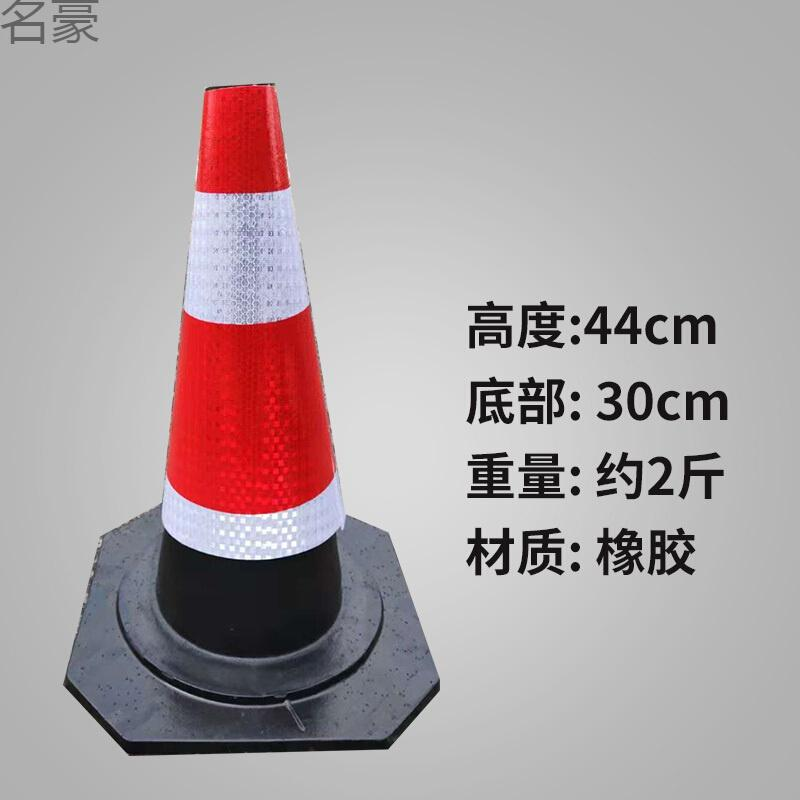sign: (69, 59, 456, 769)
